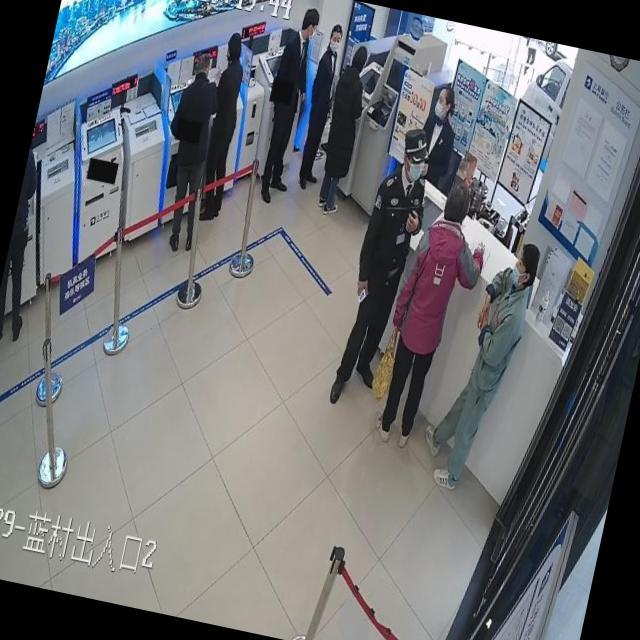person: (367, 174, 498, 454), (416, 226, 544, 498), (326, 123, 440, 414), (144, 49, 232, 256), (247, 1, 325, 207), (248, 3, 326, 206), (0, 127, 63, 345), (187, 29, 257, 224), (309, 41, 377, 219), (0, 133, 59, 337), (290, 20, 348, 192), (410, 83, 466, 192)
